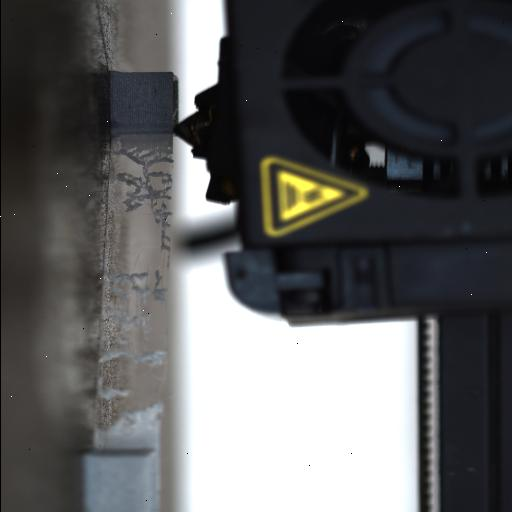stringing: (103, 268, 171, 354), (98, 400, 164, 446)
